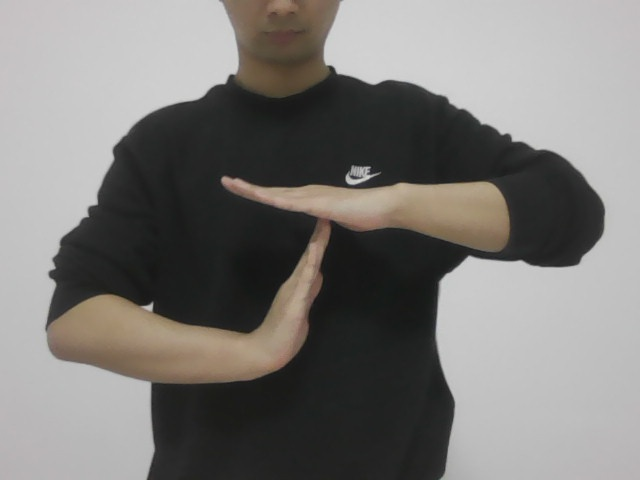stop: (180, 163, 409, 385)
